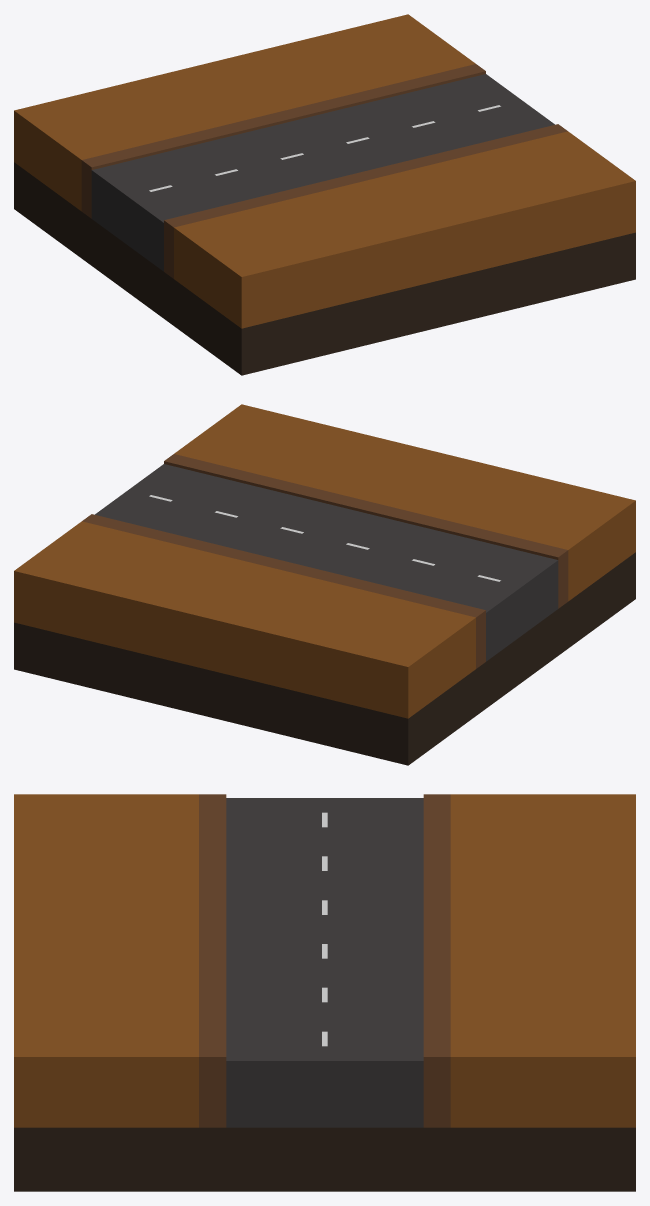
Rendered from delh_terr_04.fbx.
The picture shows the model from 3 angles, top to bottom: view 1: azimuth 30°, elevation 25°; view 2: azimuth 150°, elevation 25°; view 3: azimuth 270°, elevation 25°; orthographic projection. The views are drawn at different scales.
Visible parts, largest first — view 1: delh_terr_04; view 2: delh_terr_04; view 3: delh_terr_04.
Part boxes in pixels (x1=…): delh_terr_04: x1=14, y1=14, x2=635, y2=375; delh_terr_04: x1=14, y1=404, x2=635, y2=765; delh_terr_04: x1=14, y1=794, x2=635, y2=1191.
Bounding box in the file's own units: 3000 × 716 × 3000.
